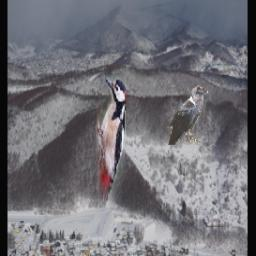Crow: (167, 85, 208, 145)
Woodpecker: (96, 75, 126, 234)
